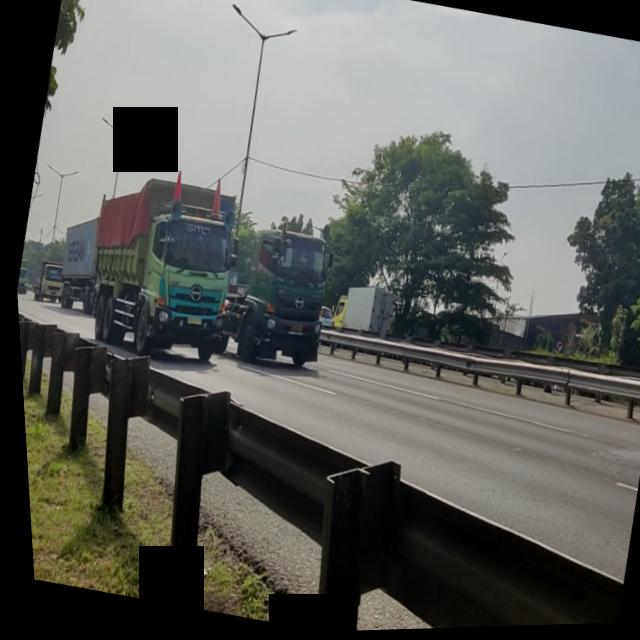Golongan III: (68, 169, 251, 378)
